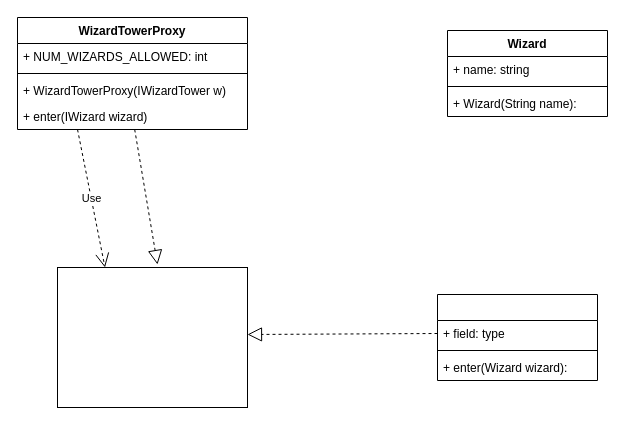
This 625x425 diagram has some shape labels left out. The box of each missing label's shape, as (x1, y1, x2, y2) in pixels:
<<Interface>> IWizardTower + enter(Wizard wizard):: (56, 266, 248, 408)
IvoryTower: (436, 294, 598, 380)
